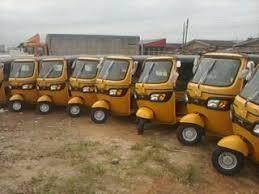keke: (208, 47, 258, 180), (92, 55, 139, 126), (7, 56, 44, 115), (36, 56, 72, 116)
